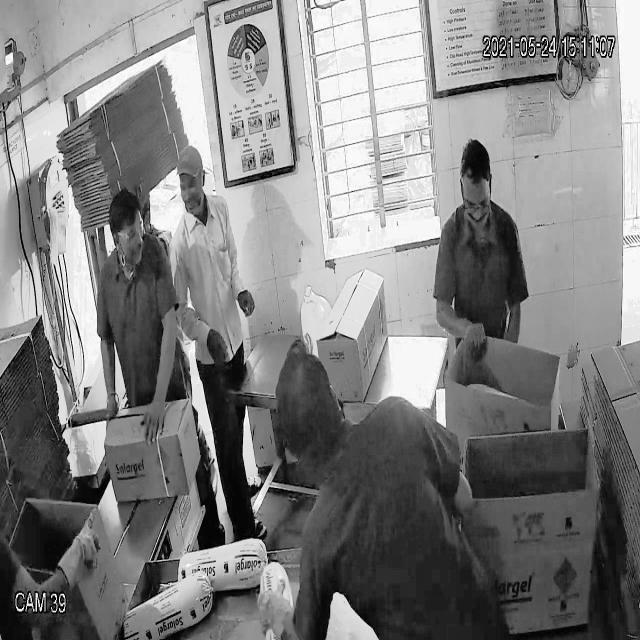glasses: (109, 215, 145, 248)
no-glass: (174, 176, 207, 200)
